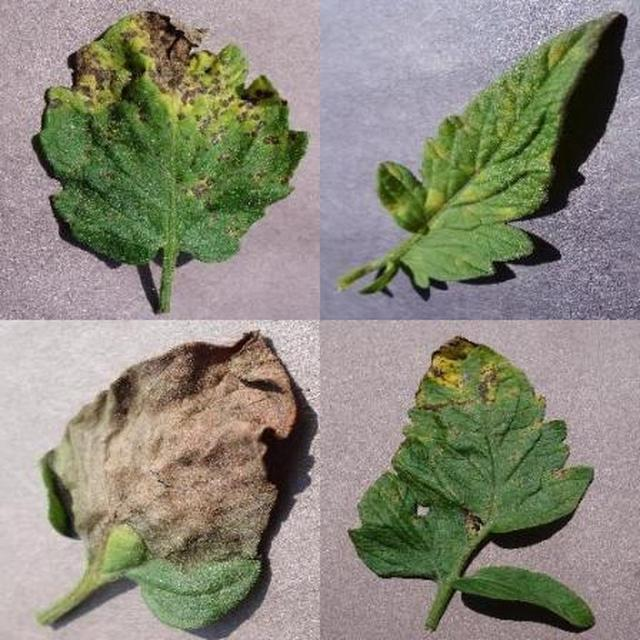Septoria Leaf: (239, 200, 640, 640)
